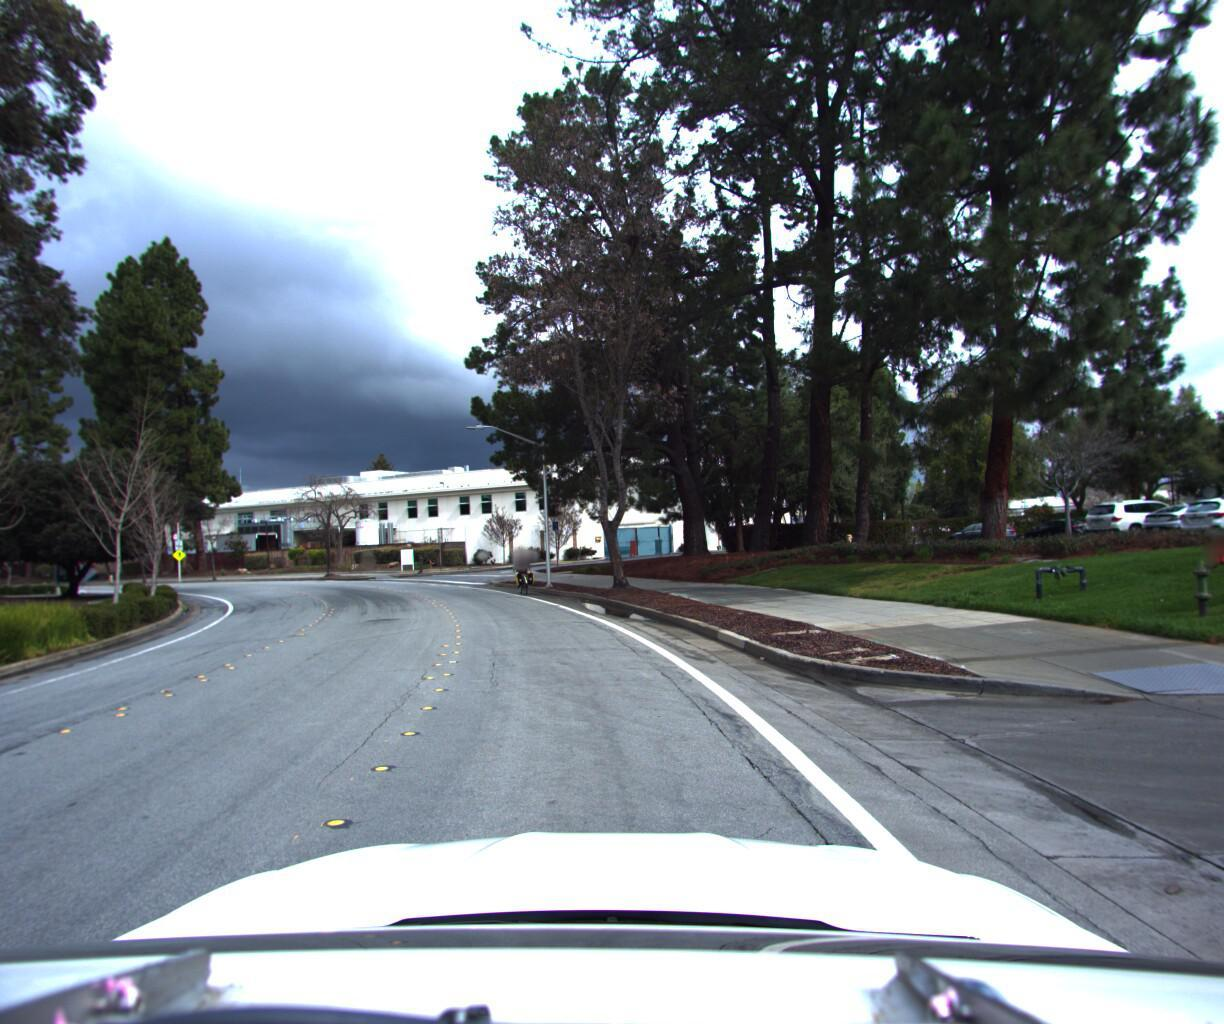bicycle: (502, 545, 539, 594)
